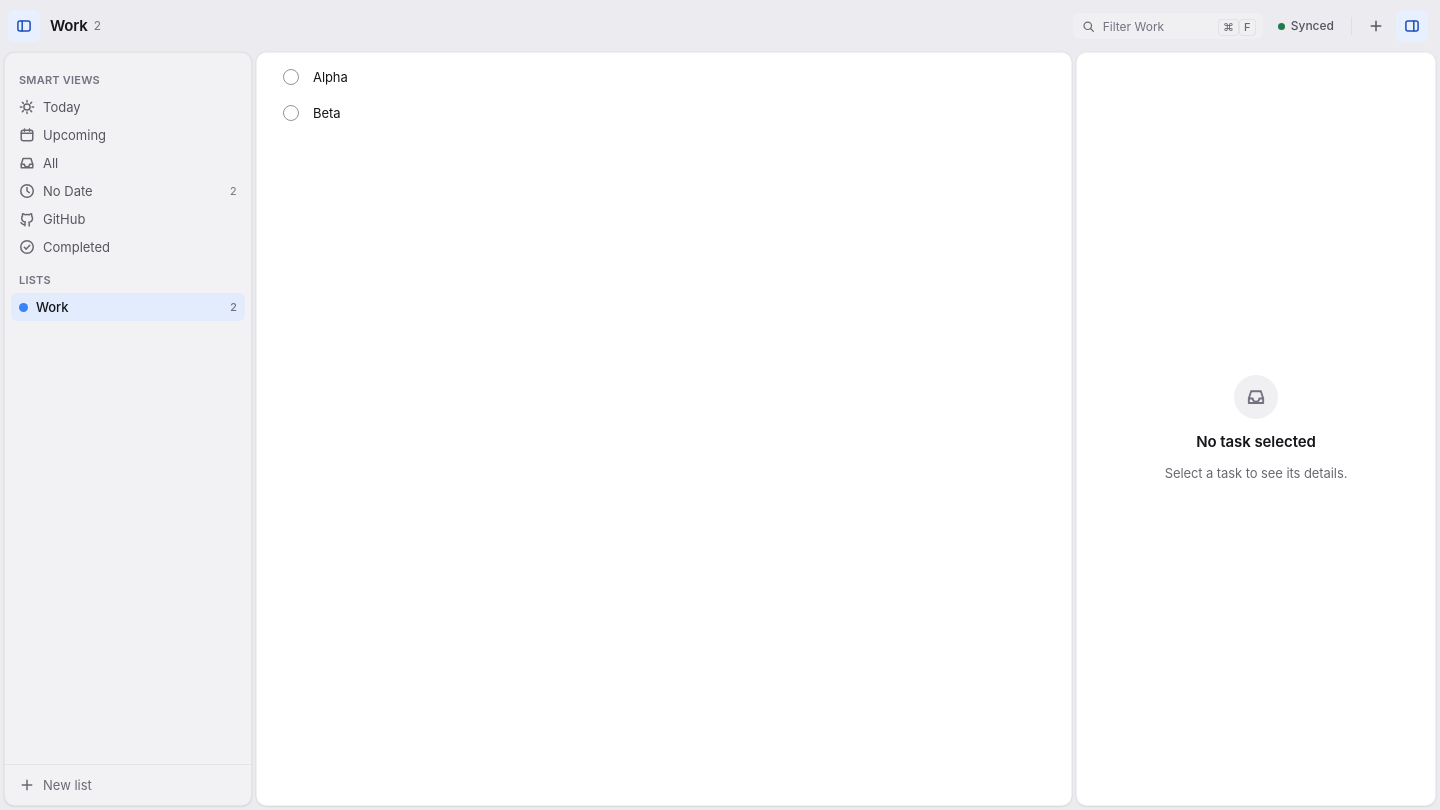
Test: AppShell › filters the list from the titlebar field
Type "alp" into the search field named "Filter tasks in Work".
click(1156, 26); type("alp")  # box [1101,14,1212,38]
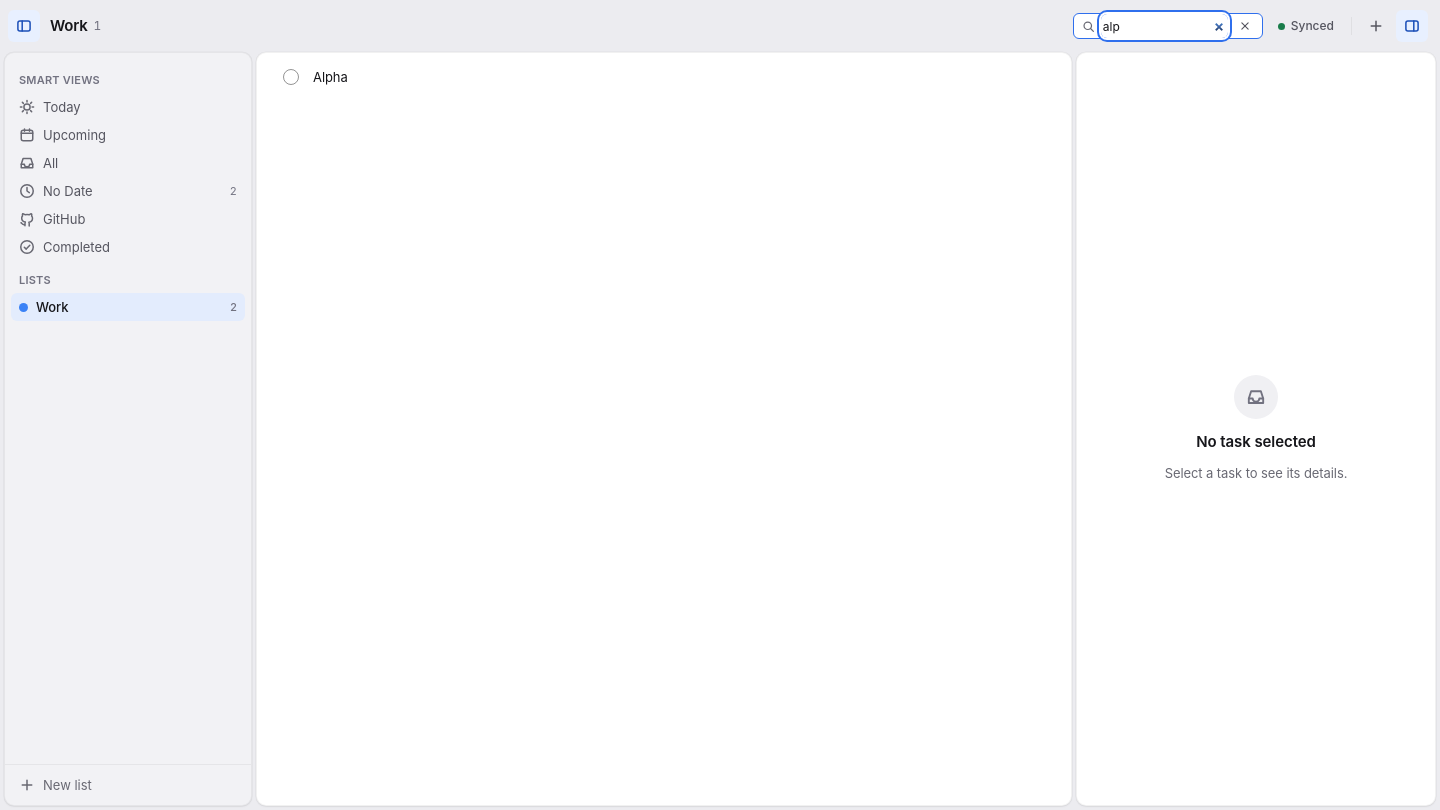
Expected: the text "Alpha" is shown, [313,69,348,85]
Expected: the text "Beta" is gone
